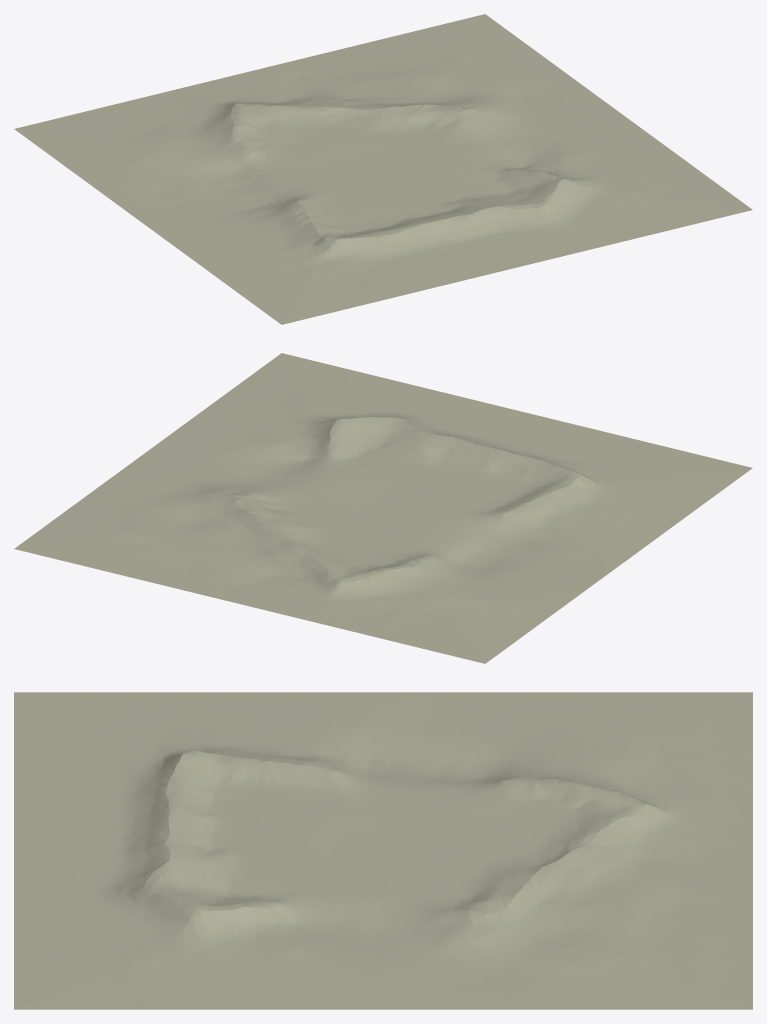
The model's file is island_map_A.fbx.
3 renders of one model, top to bottom at view 1: azimuth 30°, elevation 25°; view 2: azimuth 150°, elevation 25°; view 3: azimuth 270°, elevation 25°, orthographic. The views are drawn at different scales.
Visible parts, largest first — view 1: island_map_A; view 2: island_map_A; view 3: island_map_A.
Part boxes in pixels (x1,y1,x2,y2): island_map_A: [14, 14, 752, 324]; island_map_A: [14, 353, 752, 663]; island_map_A: [14, 692, 752, 1009].
Size of the model in its own units: 21652 by 679 by 21304.
